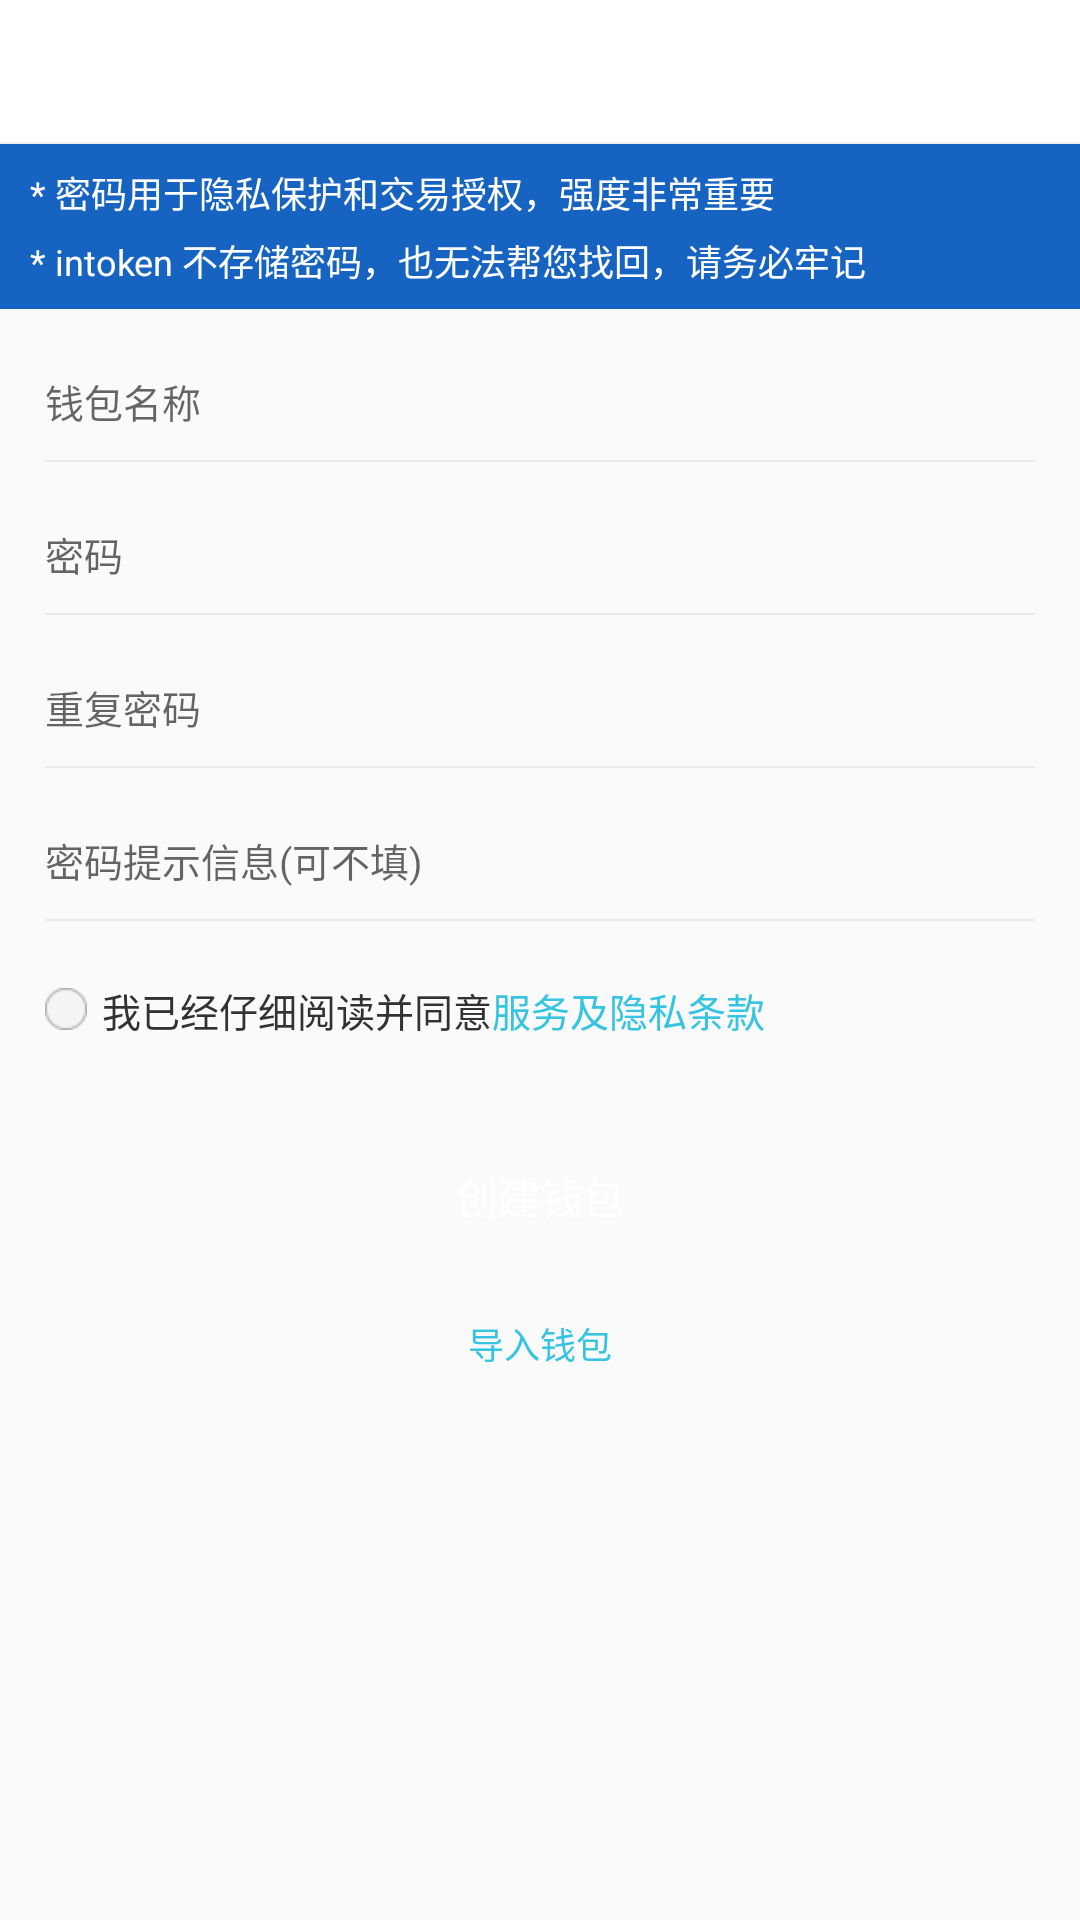

Where icons sit on this 1080x1920 app screen, as (x1, y1, x2, y2):
agreement circle cb: (45, 988, 87, 1030)
